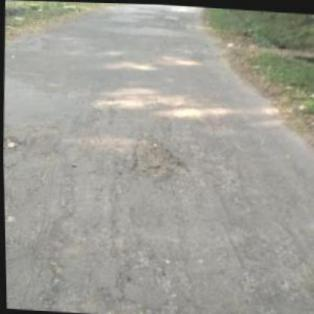Hueco: (126, 131, 193, 184), (3, 134, 29, 157)
